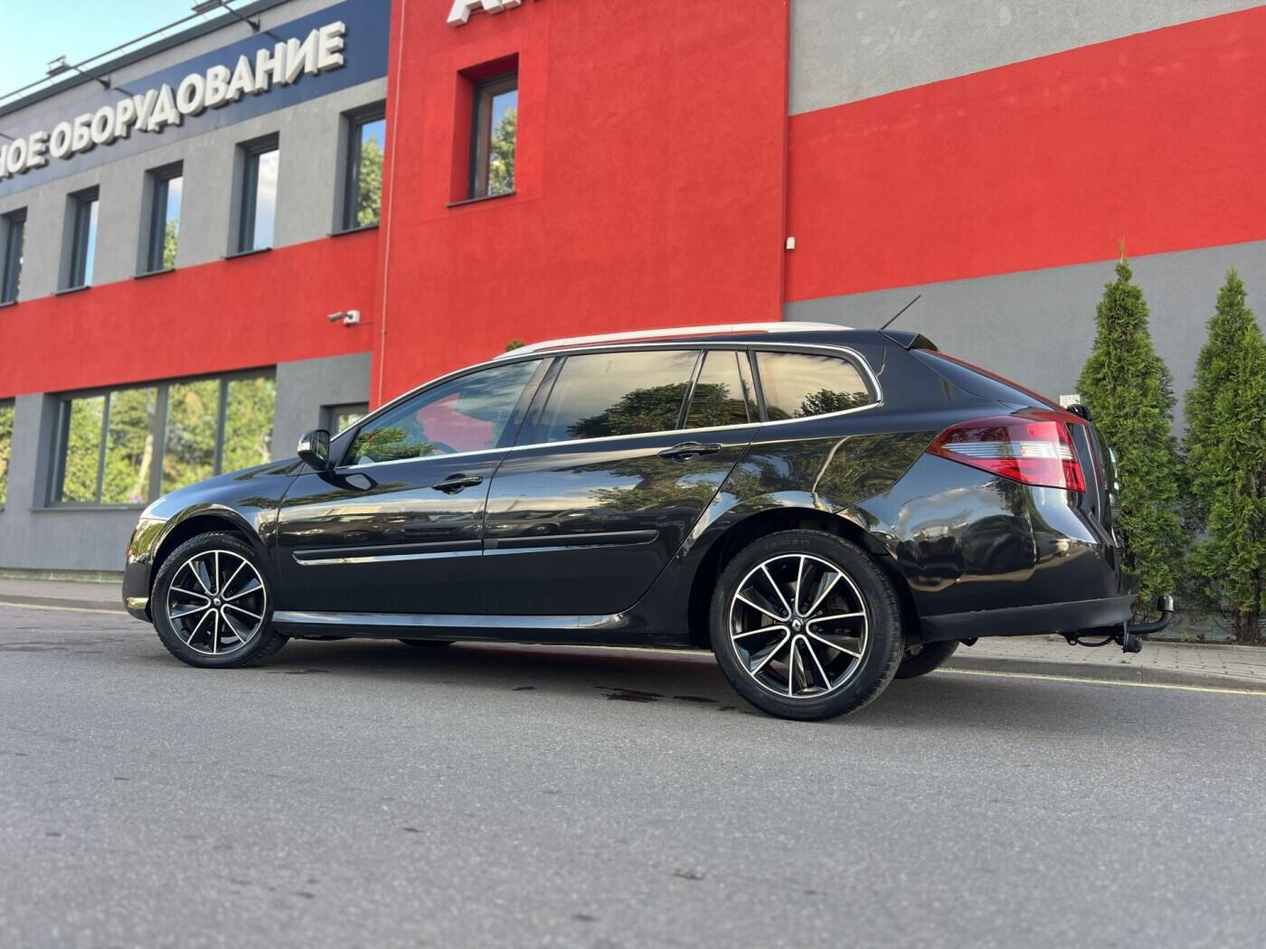Laguna_2010-2015: (119, 318, 1161, 723)
